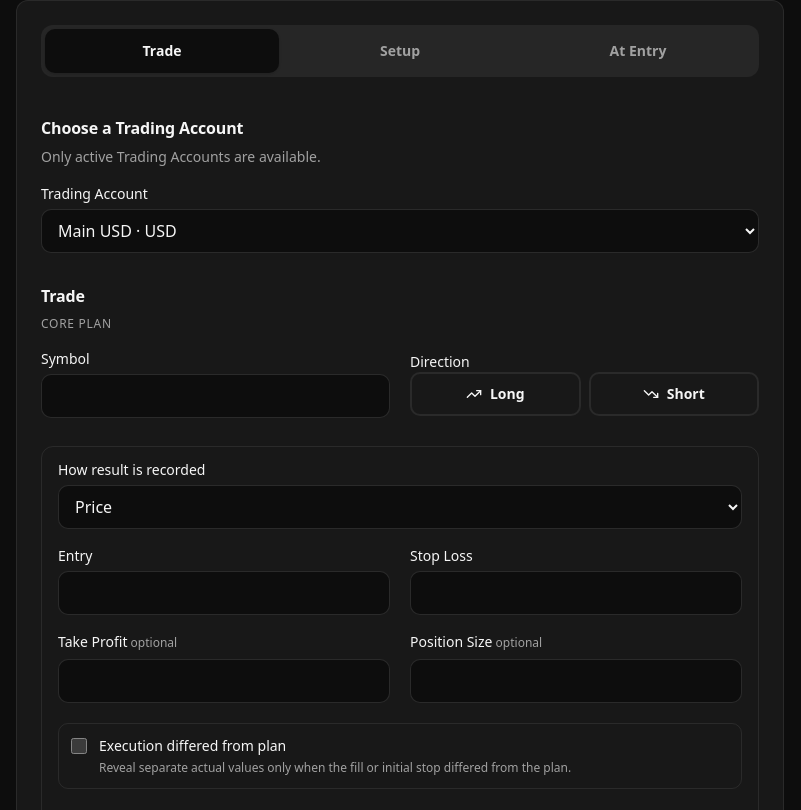
it: TradeCreateForm — Phase 15G.3 focused views › renders mutually exclusive Trade, Setup, and At Entry views with Open Trade always reachable
Expected: the dropdown labelled "Trading Account" is shown, [41,209,759,253]
Expected: the field labelled "Symbol" is shown, [41,374,390,418]
Click the button "Setup". click: point(400, 51)
box: [283,29,517,73]
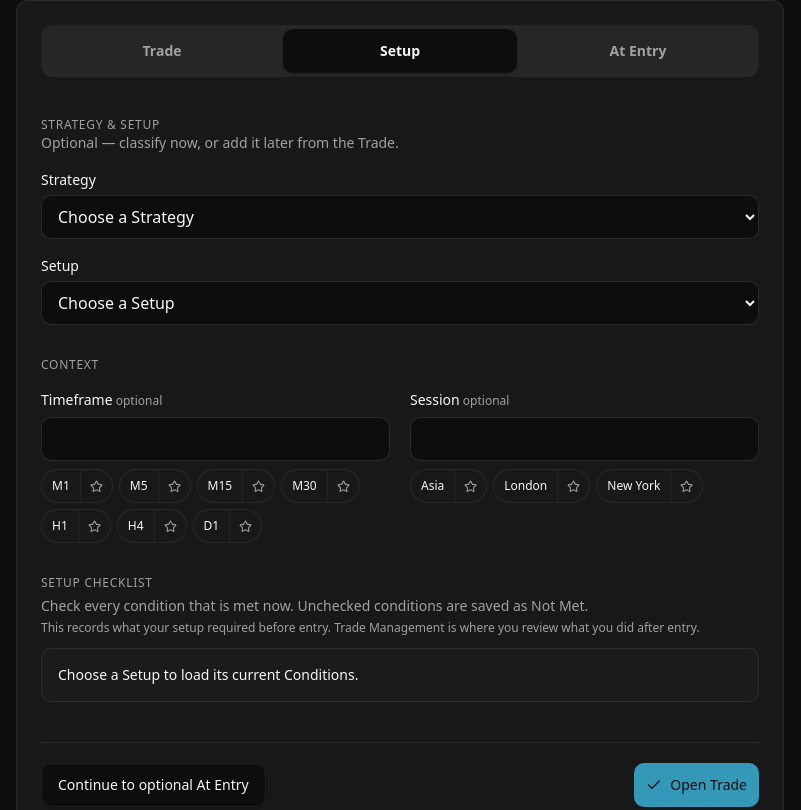
Expected: the dropdown labelled "Strategy" is shown, [41,195,759,239]
Expected: the heading "Setup Checklist" is shown, [41,574,153,591]
Expected: the label labelled "Symbol" is gone
Click the button "At Entry". click: point(638, 51)
box: [521,29,755,73]
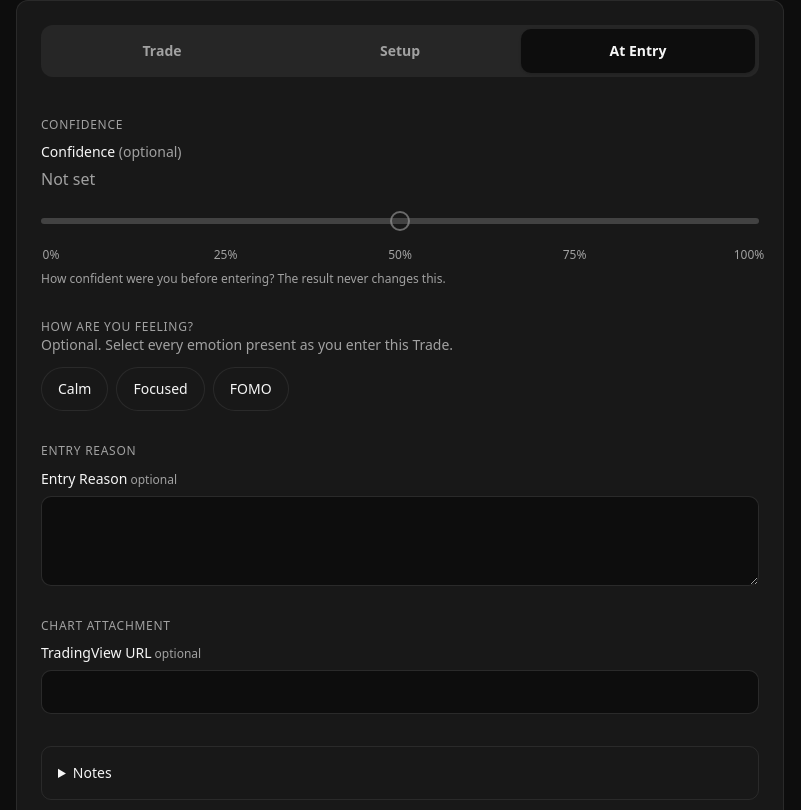
Expected: the heading "Confidence" is shown, [41,116,123,133]
Expected: the text "How are you feeling?" is shown, [41,319,194,335]
Expected: the heading "Entry Reason" is shown, [41,442,136,459]
